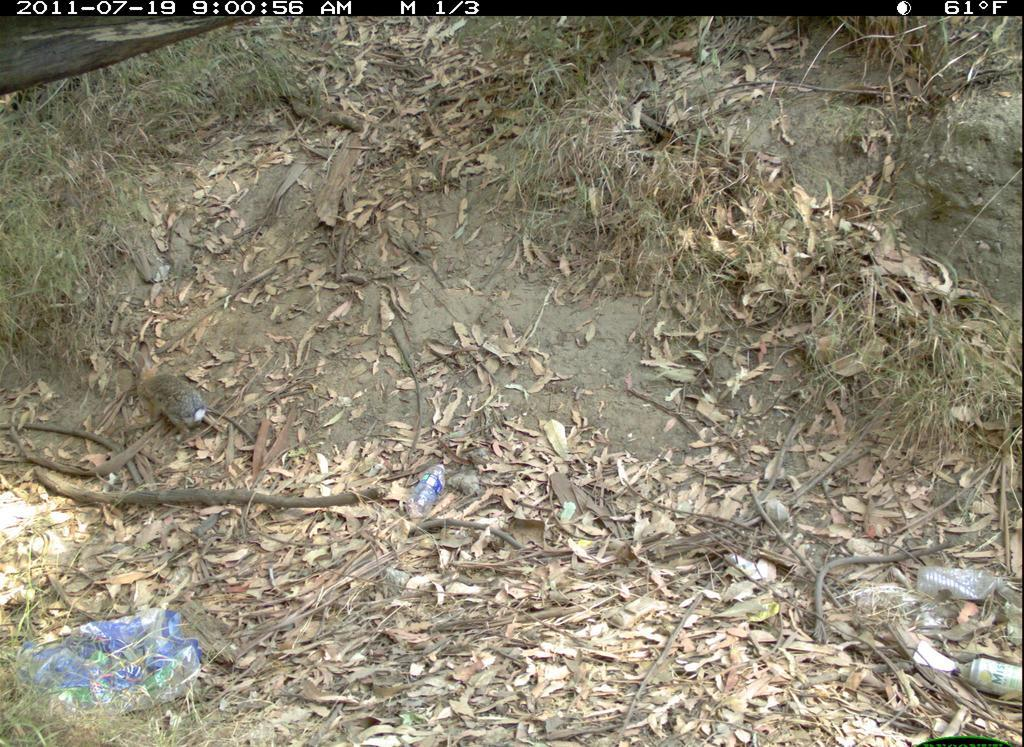rabbit: (130, 346, 239, 445)
